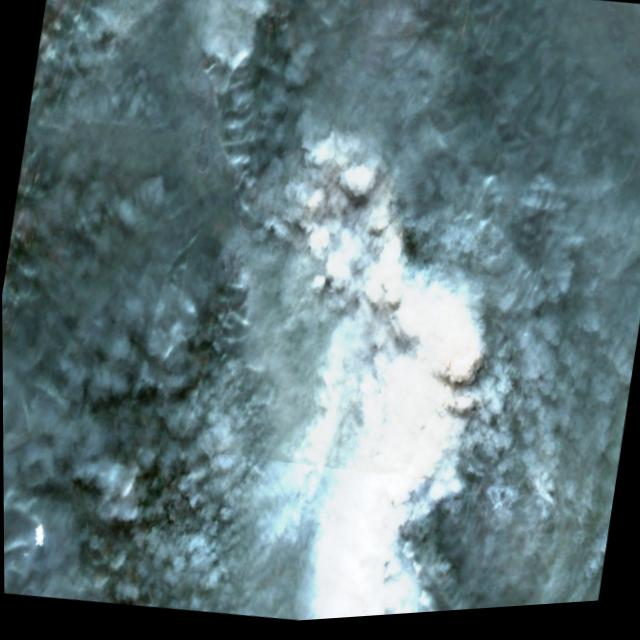fire: (280, 121, 526, 415)
